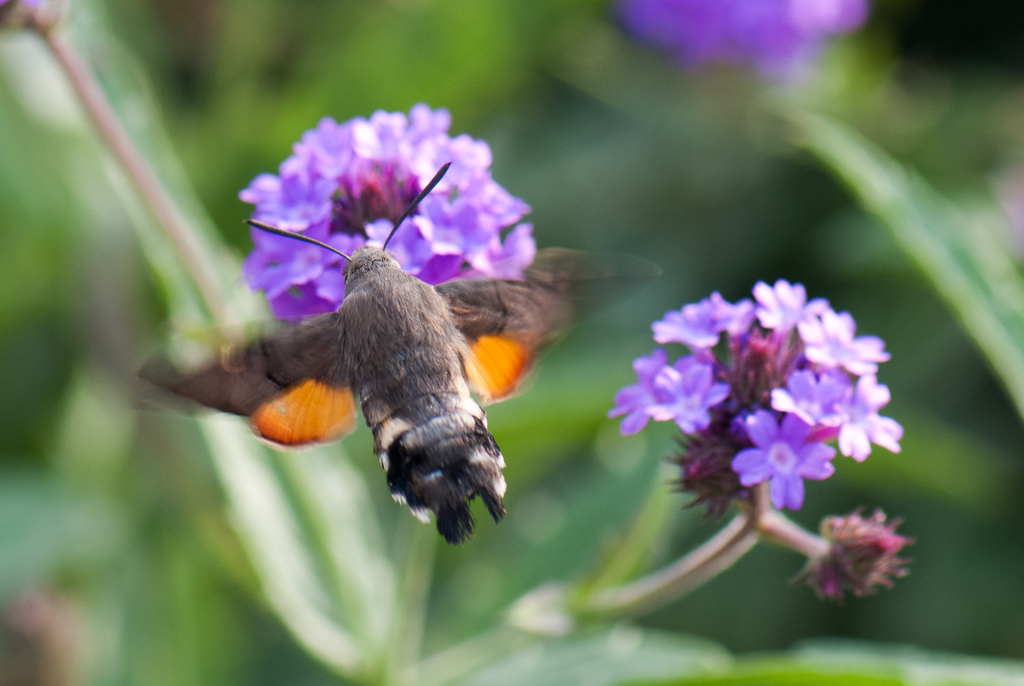Butterfly: (129, 215, 589, 553)
